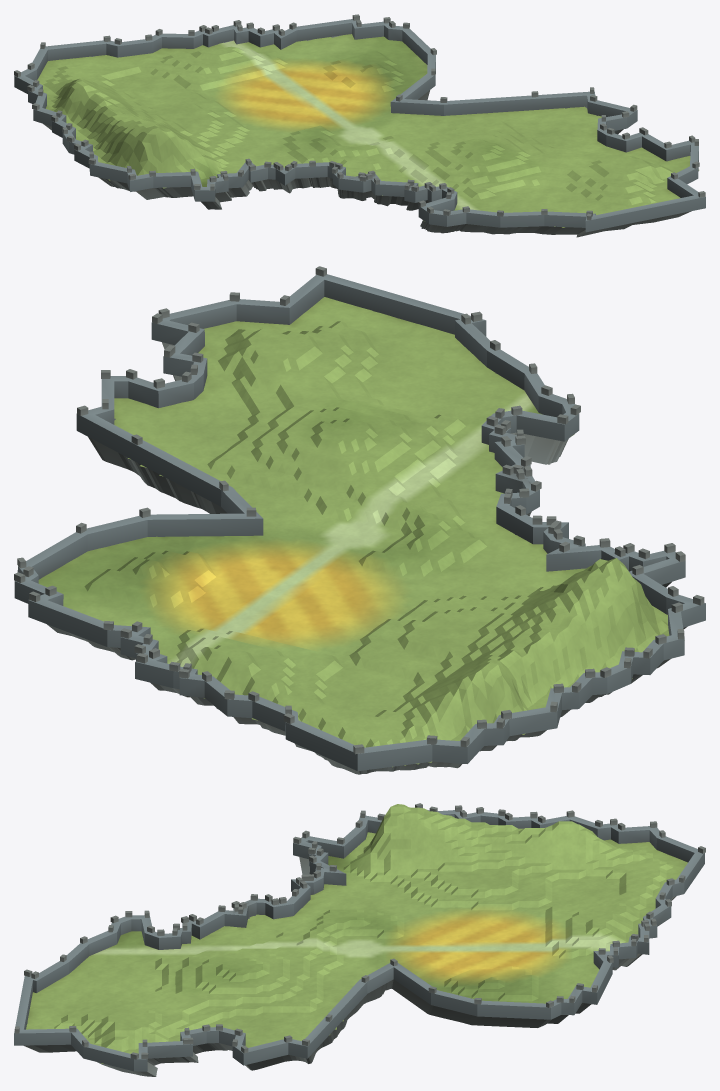
3 views of the same model, one above another, from view 1: azimuth 30°, elevation 25°; view 2: azimuth 150°, elevation 25°; view 3: azimuth 270°, elevation 25° (orthographic). The views are drawn at different scales.
Parts seen in each view (by area): view 1: ground_9d793b68; view 2: ground_9d793b68; view 3: ground_9d793b68.
Boxes of the visible parts, x1=… form: ground_9d793b68: x1=14, y1=14, x2=705, y2=237; ground_9d793b68: x1=14, y1=266, x2=705, y2=774; ground_9d793b68: x1=14, y1=803, x2=705, y2=1076.
Bounding box in the file's own units: 133 × 14.42 × 154.
Materials: 2 (1 with a texture image).
